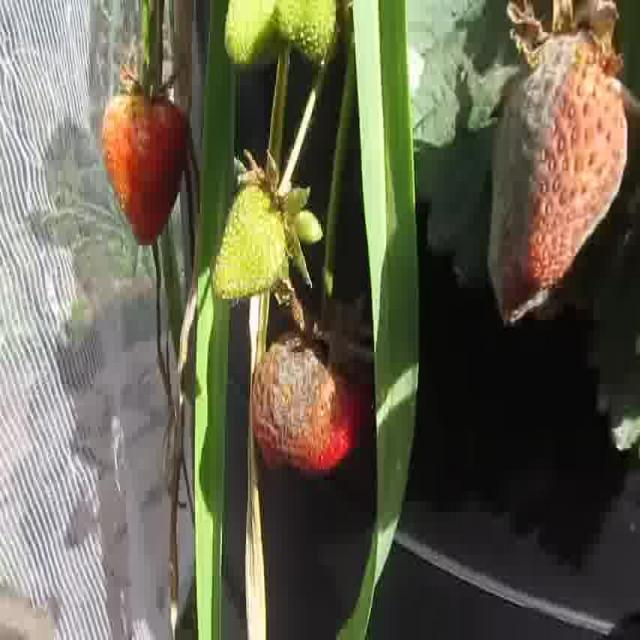Fruta sana: (102, 90, 191, 246), (212, 174, 290, 301), (224, 0, 304, 64), (272, 0, 340, 67)
Moho gris: (487, 28, 630, 326), (250, 328, 363, 478)
